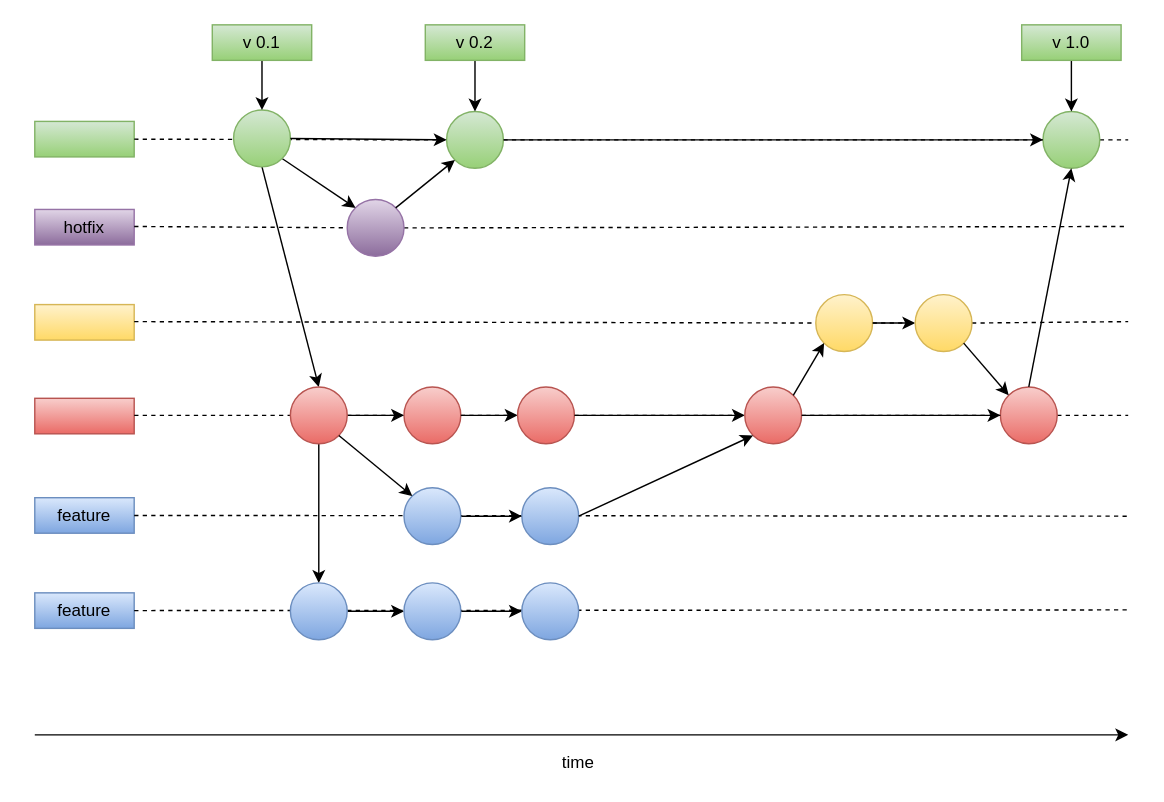
The diagram is 1164 pixels wide and 802 high, and some of its shapes have lost their labels. Here are the shapes that lost their labels. From the top down, the box of each, then its label:
(33, 120, 134, 157): master
(33, 303, 134, 340): release
(33, 397, 134, 434): develop
